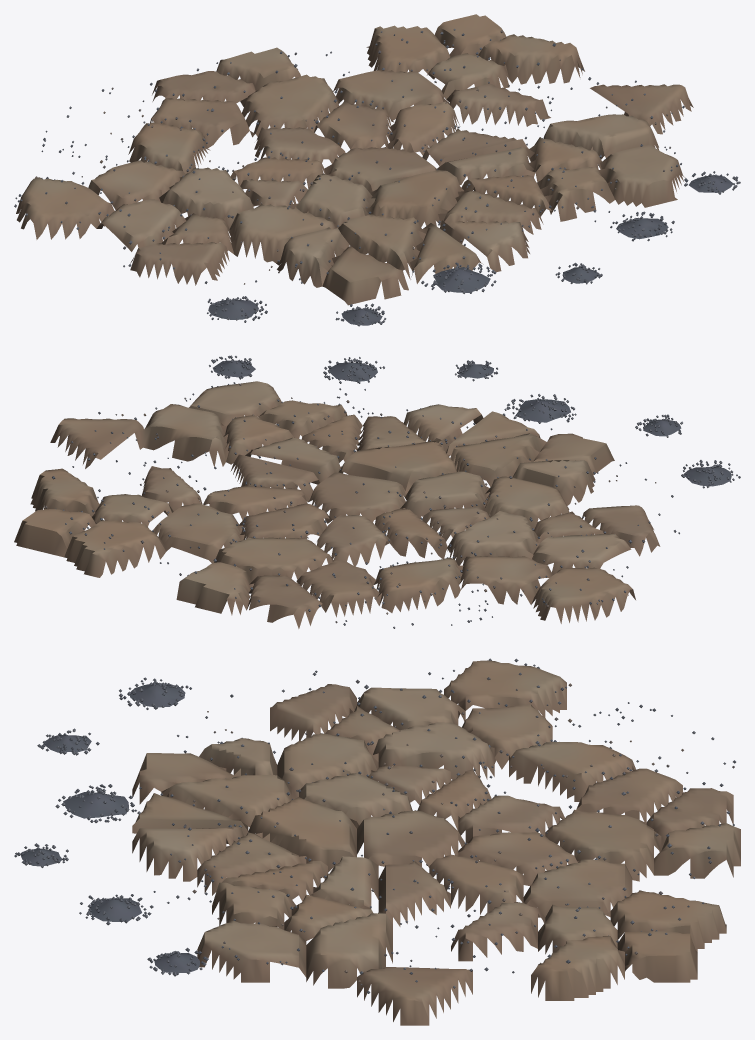
File: dep_hematite.glb
3 views of the same model, one above another, from view 1: azimuth 30°, elevation 25°; view 2: azimuth 150°, elevation 25°; view 3: azimuth 270°, elevation 25° (orthographic). The views are drawn at different scales.
Visible parts, largest first — view 1: dep_hematite_mesh, block_2_mesh, block_0_mesh, block_4_mesh, block_5_mesh, block_1_mesh, block_3_mesh; view 2: dep_hematite_mesh, block_2_mesh, block_4_mesh, block_0_mesh, block_5_mesh, block_1_mesh, block_3_mesh; view 3: dep_hematite_mesh, block_2_mesh, block_4_mesh, block_0_mesh, block_5_mesh, block_1_mesh, block_3_mesh.
Boxes of the visible parts, x1,y1,x2,y2 form: dep_hematite_mesh: (14, 14, 693, 305); block_2_mesh: (421, 263, 496, 293); block_0_mesh: (207, 296, 267, 322); block_4_mesh: (610, 211, 674, 241); block_5_mesh: (684, 171, 740, 194); block_1_mesh: (335, 303, 386, 326); block_3_mesh: (555, 262, 602, 284); dep_hematite_mesh: (14, 381, 679, 628); block_2_mesh: (504, 394, 576, 423); block_4_mesh: (323, 357, 384, 383); block_0_mesh: (681, 460, 740, 488); block_5_mesh: (209, 355, 255, 379); block_1_mesh: (635, 414, 682, 437); block_3_mesh: (455, 360, 497, 381); dep_hematite_mesh: (126, 658, 740, 1025); block_2_mesh: (55, 784, 134, 822); block_4_mesh: (79, 894, 153, 925); block_0_mesh: (119, 677, 191, 709); block_5_mesh: (147, 947, 208, 976); block_1_mesh: (37, 728, 99, 755); block_3_mesh: (14, 843, 68, 867).
Size of the model in its own units: 7.9 by 0.333 by 7.01.
